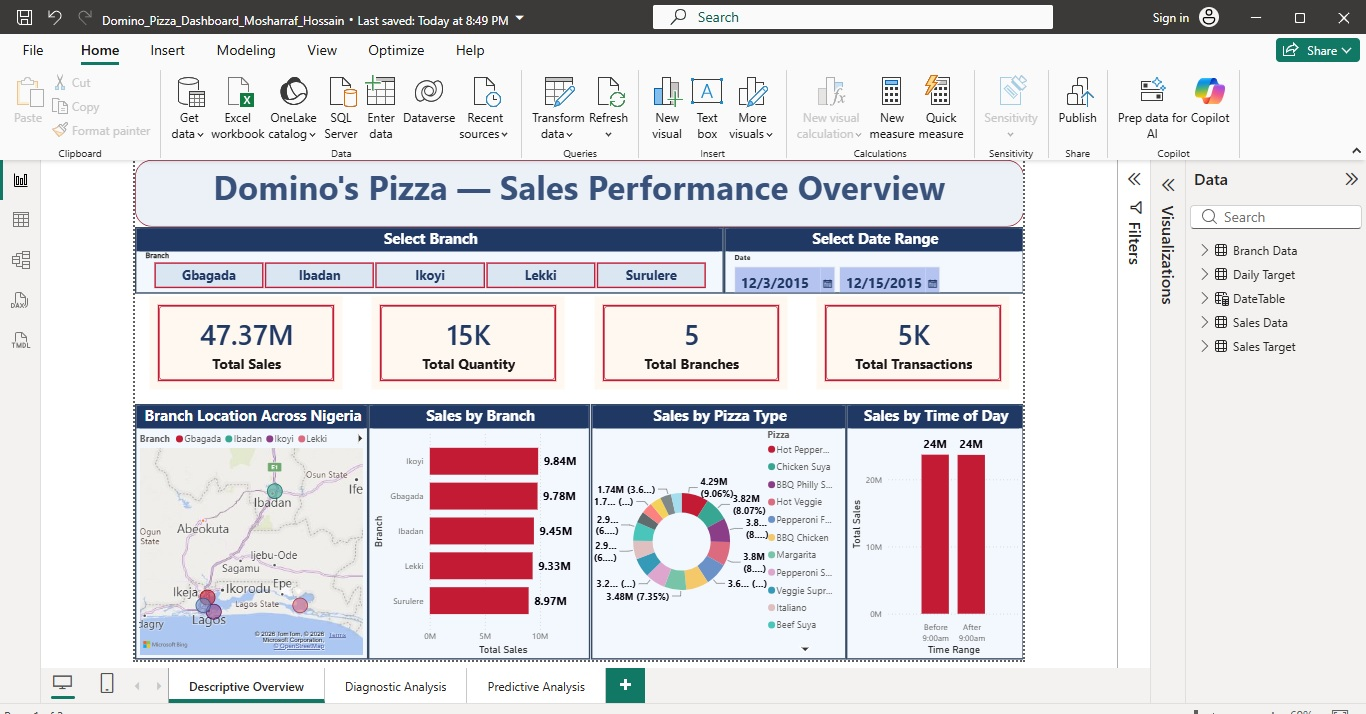

This screenshot's page, from the dashboard's own definition file:
{"tool":"powerbi","page":{"name":"Descriptive Overview ","canvas":[1280,720],"ordinal":0},"visuals":[{"type":"cardVisual","fields":{"Data":["Sales Data.Total Quantity"]},"box":[336,208,288,128],"z":0},{"type":"cardVisual","fields":{"Data":["Sales Data.Total Sales"]},"box":[16,208,288,128],"z":1000},{"type":"cardVisual","fields":{"Data":["Sales Data.Total Branches"]},"box":[656,208,288,128],"z":2000},{"type":"cardVisual","fields":{"Data":["Sales Data.Total Transactions"]},"box":[976,208,288,128],"z":3000},{"type":"clusteredBarChart","title":"Sales by Branch","fields":{"Category":["Sales Data.Branch"],"Y":["Sales Data.Total Sales"]},"box":[336,352,320,368],"z":4000},{"type":"donutChart","title":"Sales by Pizza Type","fields":{"Category":["Sales Target.Pizza"],"Y":["Sales Data.Total Sales"]},"box":[672,352,336,368],"z":5000},{"type":"slicer","title":"Select Branch","fields":{"Values":["Sales Data.Branch"]},"box":[0,96,848,96],"z":6000},{"type":"slicer","title":"Select Date Range","fields":{"Values":["Sales Data.Date"]},"box":[864,96,416,96],"z":7000},{"type":"clusteredColumnChart","title":"Sales by Time of Day","fields":{"Category":["Sales Data.Time Range"],"Y":["Sales Data.Total Sales"]},"box":[1024,352,256,368],"z":8000},{"type":"textbox","box":[0,0,1280,96],"z":9000},{"type":"shape","box":[0,0,1280,80],"z":10000},{"type":"scatterChart","title":"Branch Location Across Nigeria","fields":{"X":["Branch Data.Longitude"],"Y":["Avg(Branch Data.Lattitude)"],"Series":["Branch Data.Branch"],"Size":["Sales Data.Total Sales"]},"box":[0,352,320,368],"z":11000}]}

Visuals, with their boxes on the page's 1280x720 design canvas (x1, y1, x2, y2). These are canvas units, not pixel positions in the 1366x714 screenshot, which may show the page scaled, cropped or inside an application window:
cardVisual - Sales Data.Total Quantity: x1=336 y1=208 x2=624 y2=336
cardVisual - Sales Data.Total Sales: x1=16 y1=208 x2=304 y2=336
cardVisual - Sales Data.Total Branches: x1=656 y1=208 x2=944 y2=336
cardVisual - Sales Data.Total Transactions: x1=976 y1=208 x2=1264 y2=336
"Sales by Branch" clusteredBarChart: x1=336 y1=352 x2=656 y2=720
"Sales by Pizza Type" donutChart: x1=672 y1=352 x2=1008 y2=720
"Select Branch" slicer: x1=0 y1=96 x2=848 y2=192
"Select Date Range" slicer: x1=864 y1=96 x2=1280 y2=192
"Sales by Time of Day" clusteredColumnChart: x1=1024 y1=352 x2=1280 y2=720
textbox: x1=0 y1=0 x2=1280 y2=96
shape: x1=0 y1=0 x2=1280 y2=80
"Branch Location Across Nigeria" scatterChart: x1=0 y1=352 x2=320 y2=720
